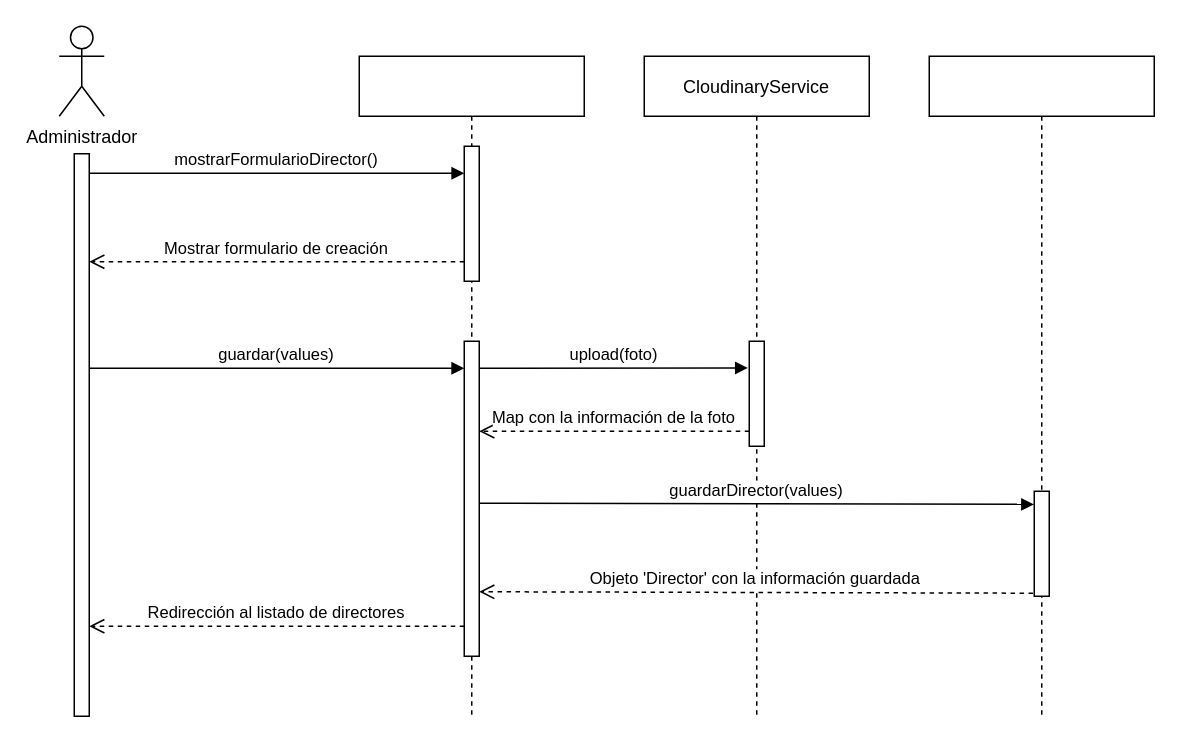
The diagram is 1181 pixels wide and 743 high, and some of its shapes have lost their labels. The box of each missing label's shape, as (x1, y1, x2, y2) in pixels:
DirectoresController: (358, 55, 584, 716)
DirectoresService: (928, 55, 1154, 716)
